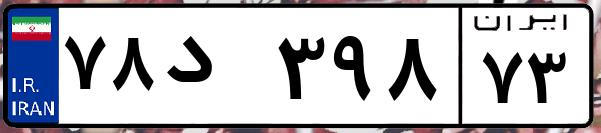3: (270, 28, 330, 110), (525, 38, 570, 115)
7: (57, 26, 110, 100), (475, 38, 525, 113)
8: (385, 28, 445, 110), (110, 28, 158, 98)
9: (330, 28, 385, 110)
د: (158, 20, 270, 120)
